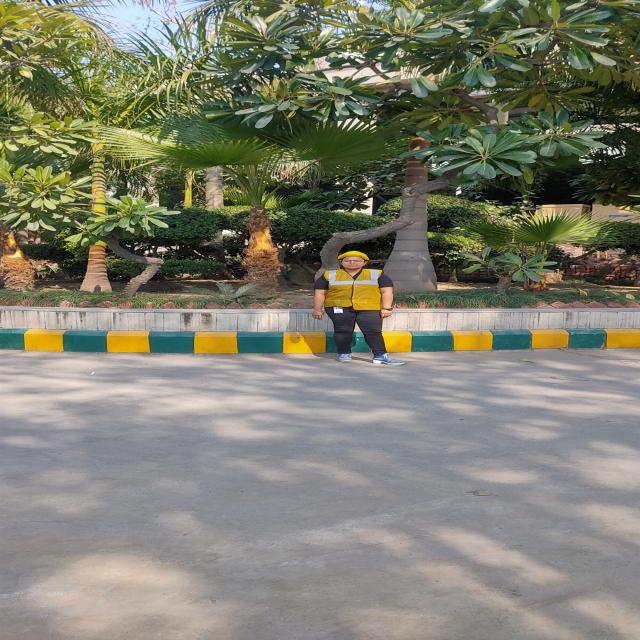safe: (315, 251, 395, 365)
